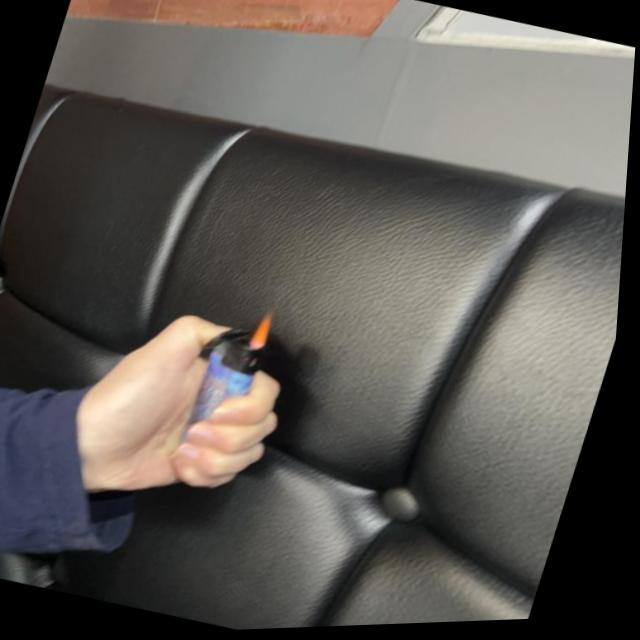Fire: (250, 307, 278, 353)
